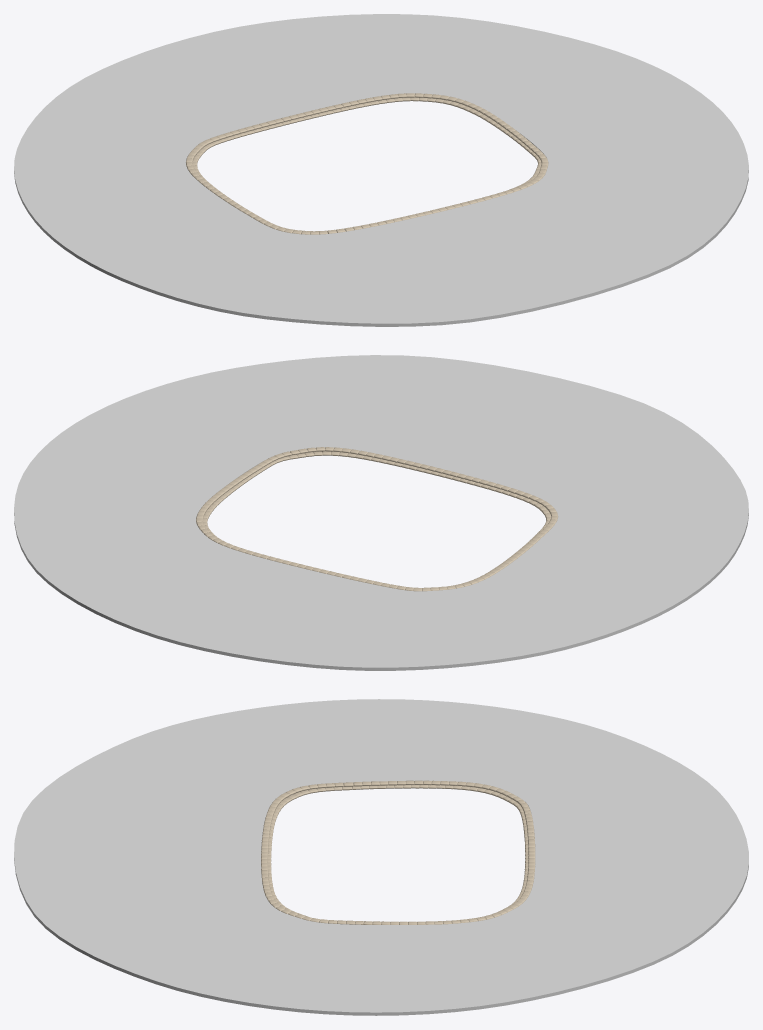
The model's file is sandbags_waterlevel_1.FBX.
The picture shows the model from 3 angles, top to bottom: view 1: azimuth 30°, elevation 25°; view 2: azimuth 150°, elevation 25°; view 3: azimuth 270°, elevation 25°; orthographic projection.
Parts seen in each view (by area): view 1: waterlevel_top, waterlevel_1; view 2: waterlevel_top, waterlevel_1; view 3: waterlevel_top, waterlevel_1.
Part boxes in pixels (bbox=[...]): waterlevel_top: bbox=[14, 14, 748, 323]; waterlevel_1: bbox=[14, 133, 748, 326]; waterlevel_top: bbox=[14, 355, 748, 667]; waterlevel_1: bbox=[14, 461, 748, 670]; waterlevel_top: bbox=[14, 699, 748, 1012]; waterlevel_1: bbox=[14, 805, 748, 1015].
Size of the model in its own units: 51.55 by 51.1 by 0.3187.
